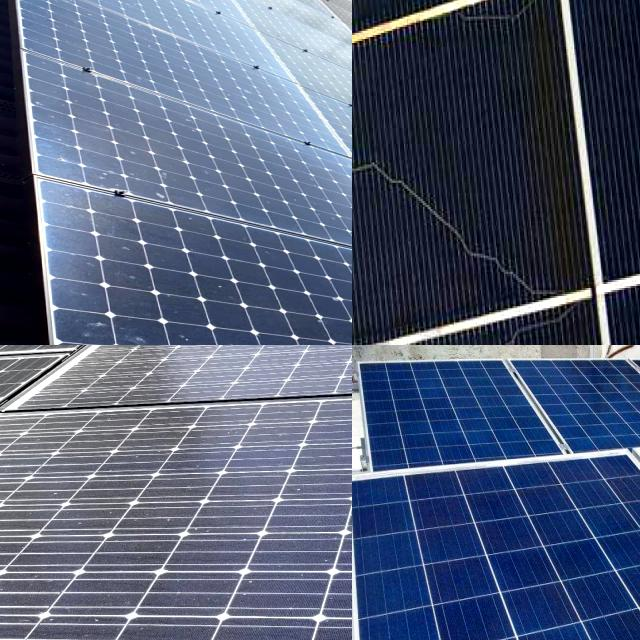crack: (352, 447, 640, 640), (352, 359, 567, 489), (501, 347, 640, 478), (352, 482, 420, 547)
dust: (111, 556, 306, 640), (0, 345, 177, 400), (294, 383, 352, 520), (170, 345, 293, 369), (317, 127, 352, 206)
shadow: (488, 0, 614, 303), (352, 0, 409, 345), (352, 0, 452, 20)
